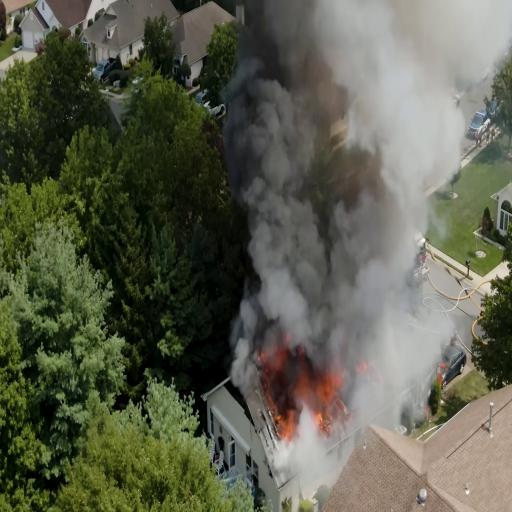fire: (263, 336, 334, 420)
smoke: (234, 60, 316, 328), (344, 200, 407, 372)
